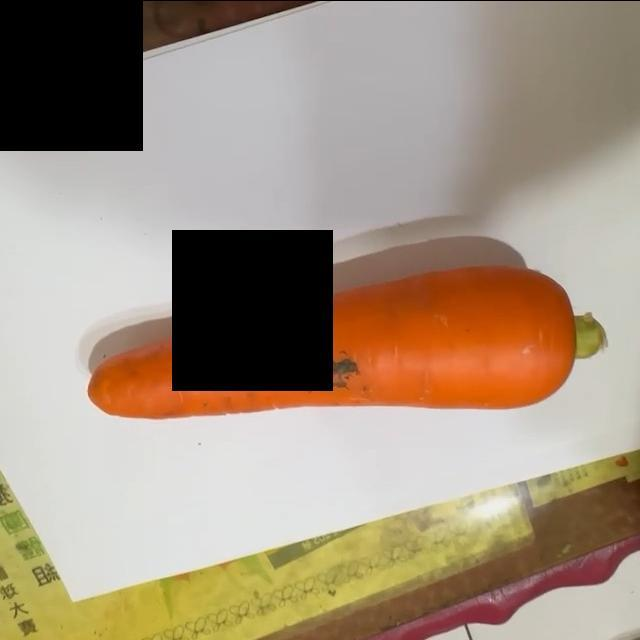carrot: (81, 263, 612, 426)
